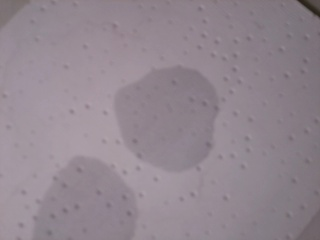Water_detected: (125, 77, 202, 158), (51, 166, 126, 240)
